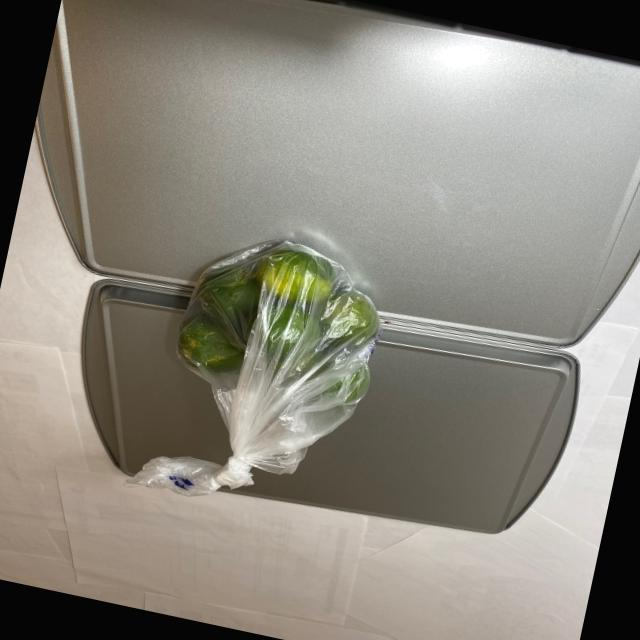lemon: (161, 216, 402, 429)
